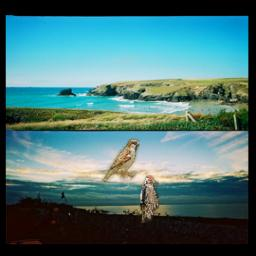Sparrow: (101, 140, 139, 183)
Woodpecker: (140, 176, 160, 224)
